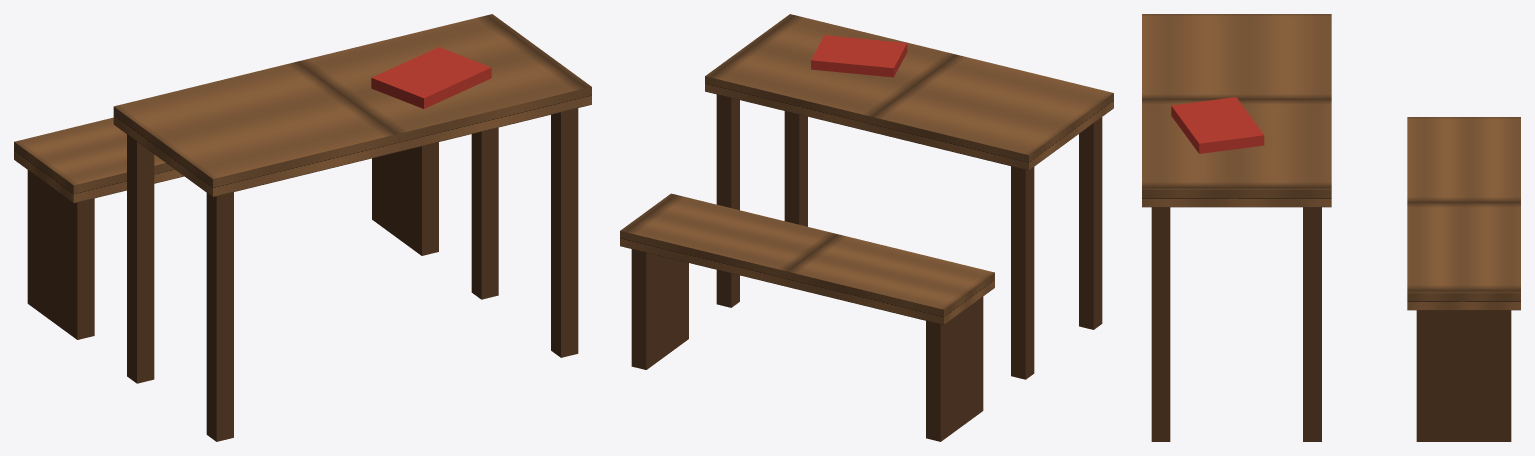
File: prop_meja_sekolah.glb
3 renders of one model, left to right at view 1: azimuth 30°, elevation 25°; view 2: azimuth 150°, elevation 25°; view 3: azimuth 270°, elevation 25°, orthographic. The views are drawn at different scales.
Parts seen in each view (by area): view 1: meja_sekolah; view 2: meja_sekolah; view 3: meja_sekolah.
Boxes of the visible parts, <box> form: meja_sekolah: <box>14,14,591,441</box>; meja_sekolah: <box>620,14,1113,441</box>; meja_sekolah: <box>1142,14,1520,441</box>.
Size of the model in its own units: 1.1 by 0.785 by 1.
3 materials, 1 textured.
